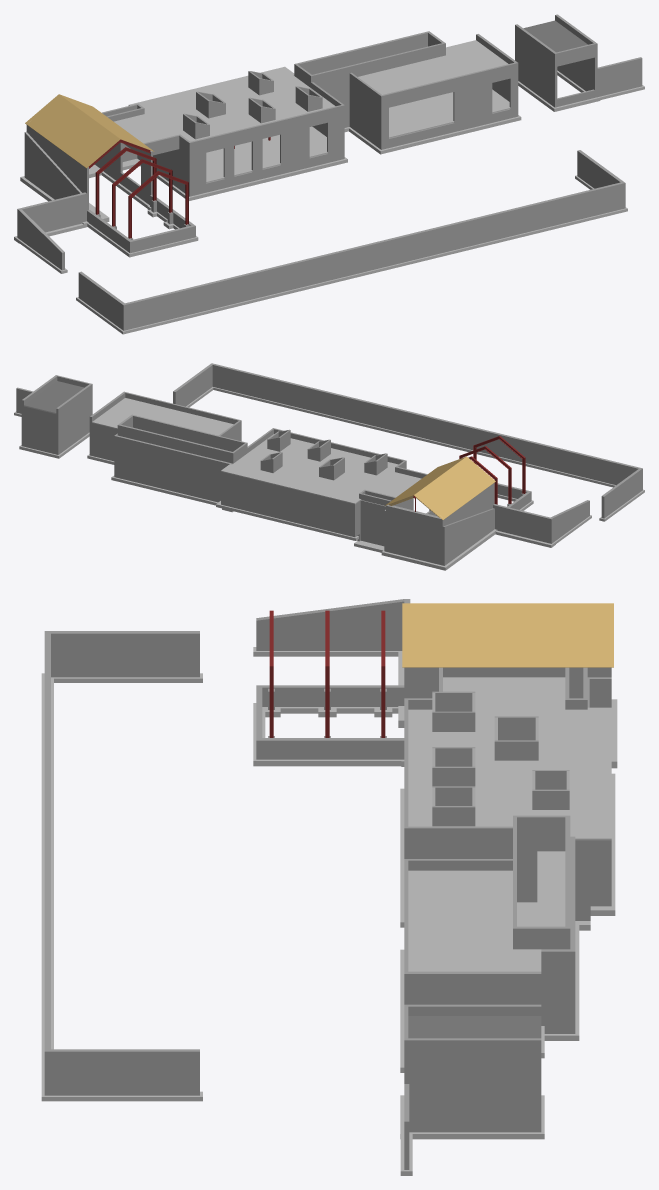
The model's file is title-sheet.glb.
3 views of the same model, one above another, from view 1: azimuth 30°, elevation 25°; view 2: azimuth 150°, elevation 25°; view 3: azimuth 270°, elevation 25° (orthographic). The views are drawn at different scales.
Parts seen in each view (by area): view 1: Wall Walls <2312623 CIP_12" Concrete<, Wall Walls <2136168 CIP_8" Concrete<, Floor Floors <2184123 2 1/2" Conc on 1 1/2" Comp Deck<, Wall Walls <2134490 CIP_8" Concrete<, FootPrintRoof Roofs <2144384 3/4" Sheathing<, Floor Floors <2144017 2 1/2" Conc on 1 1/2" Comp Deck<, Wall Walls <2181251 CIP_8" Concrete<, Wall Walls <2137488 CIP_10" Concrete<, Floor Floors <2144656 4" SOG<, Floor Floors <2144578 4" SOG<, WallFoundation Structural Foundations <2312799 _Size<, Wall Walls <2134839 CIP_8" Concrete< (+19 smaller); view 2: Wall Walls <2312623 CIP_12" Concrete<, Floor Floors <2184123 2 1/2" Conc on 1 1/2" Comp Deck<, Wall Walls <2136964 CIP_20" Concrete<, Wall Walls <2169531 CIP_10" Concrete<, FootPrintRoof Roofs <2144384 3/4" Sheathing<, Wall Walls <2129207 CIP_16" Concrete<, Floor Floors <2144017 2 1/2" Conc on 1 1/2" Comp Deck<, Wall Walls <2137488 CIP_10" Concrete<, Wall Walls <2255002 CIP_16" Concrete<, Wall Walls <2167672 CIP_12" Concrete<, Wall Walls <2292922 CIP_10" Concrete<, Wall Walls <2181251 CIP_8" Concrete< (+15 smaller); view 3: Floor Floors <2184123 2 1/2" Conc on 1 1/2" Comp Deck<, FootPrintRoof Roofs <2144384 3/4" Sheathing<, Wall Walls <2137752 CIP_10" Concrete<, Floor Floors <2144017 2 1/2" Conc on 1 1/2" Comp Deck<, Wall Walls <2312436 CIP_12" Concrete<, Wall Walls <2312676 CIP_12" Concrete<, Wall Walls <2312340 CIP_12" Concrete<, Wall Walls <2136431 CIP_8" Concrete<, Wall Walls <2138147 CIP_12" Concrete<, Wall Walls <2312623 CIP_12" Concrete<, Floor Floors <2144093 3" Conc on 2" Comp Deck<, Wall Walls <2257456 CIP_8" Concrete< (+26 smaller).
Boxes of the visible parts, bbox=[...] form: Wall Walls <2312623 CIP_12" Concrete<: bbox=[125, 181, 625, 329]; Wall Walls <2136168 CIP_8" Concrete<: bbox=[190, 104, 344, 195]; Floor Floors <2184123 2 1/2" Conc on 1 1/2" Comp Deck<: bbox=[114, 66, 335, 143]; Wall Walls <2134490 CIP_8" Concrete<: bbox=[382, 62, 515, 149]; FootPrintRoof Roofs <2144384 3/4" Sheathing<: bbox=[25, 94, 154, 168]; Floor Floors <2144017 2 1/2" Conc on 1 1/2" Comp Deck<: bbox=[358, 40, 508, 94]; Wall Walls <2181251 CIP_8" Concrete<: bbox=[312, 42, 445, 127]; Wall Walls <2137488 CIP_10" Concrete<: bbox=[515, 24, 557, 107]; Floor Floors <2144656 4" SOG<: bbox=[389, 89, 510, 138]; Floor Floors <2144578 4" SOG<: bbox=[206, 126, 327, 182]; WallFoundation Structural Foundations <2312799 _Size<: bbox=[128, 207, 627, 332]; Wall Walls <2134839 CIP_8" Concrete<: bbox=[349, 72, 383, 149]; Wall Walls <2312623 CIP_12" Concrete<: bbox=[210, 363, 639, 485]; Floor Floors <2184123 2 1/2" Conc on 1 1/2" Comp Deck<: bbox=[221, 434, 421, 504]; Wall Walls <2136964 CIP_20" Concrete<: bbox=[114, 434, 232, 502]; Wall Walls <2169531 CIP_10" Concrete<: bbox=[223, 472, 352, 536]; FootPrintRoof Roofs <2144384 3/4" Sheathing<: bbox=[385, 456, 495, 519]; Wall Walls <2129207 CIP_16" Concrete<: bbox=[384, 504, 440, 564]; Floor Floors <2144017 2 1/2" Conc on 1 1/2" Comp Deck<: bbox=[92, 398, 233, 435]; Wall Walls <2137488 CIP_10" Concrete<: bbox=[56, 383, 92, 454]; Wall Walls <2255002 CIP_16" Concrete<: bbox=[441, 508, 494, 565]; Wall Walls <2167672 CIP_12" Concrete<: bbox=[493, 504, 552, 543]; Wall Walls <2292922 CIP_10" Concrete<: bbox=[117, 424, 234, 463]; Wall Walls <2181251 CIP_8" Concrete<: bbox=[131, 414, 245, 451]; Floor Floors <2184123 2 1/2" Conc on 1 1/2" Comp Deck<: bbox=[408, 677, 611, 840]; FootPrintRoof Roofs <2144384 3/4" Sheathing<: bbox=[402, 603, 613, 667]; Wall Walls <2137752 CIP_10" Concrete<: bbox=[404, 1038, 541, 1132]; Floor Floors <2144017 2 1/2" Conc on 1 1/2" Comp Deck<: bbox=[408, 870, 541, 971]; Wall Walls <2312436 CIP_12" Concrete<: bbox=[44, 631, 199, 677]; Wall Walls <2312676 CIP_12" Concrete<: bbox=[51, 1049, 199, 1095]; Wall Walls <2312340 CIP_12" Concrete<: bbox=[256, 599, 404, 650]; Wall Walls <2136431 CIP_8" Concrete<: bbox=[408, 826, 512, 858]; Wall Walls <2138147 CIP_12" Concrete<: bbox=[256, 738, 404, 759]; Wall Walls <2312623 CIP_12" Concrete<: bbox=[44, 633, 50, 1095]; Floor Floors <2144093 3" Conc on 2" Comp Deck<: bbox=[408, 1016, 541, 1038]; Wall Walls <2257456 CIP_8" Concrete<: bbox=[513, 815, 565, 902].
Size of the model in its own units: 206 by 29.36 by 95.25.
